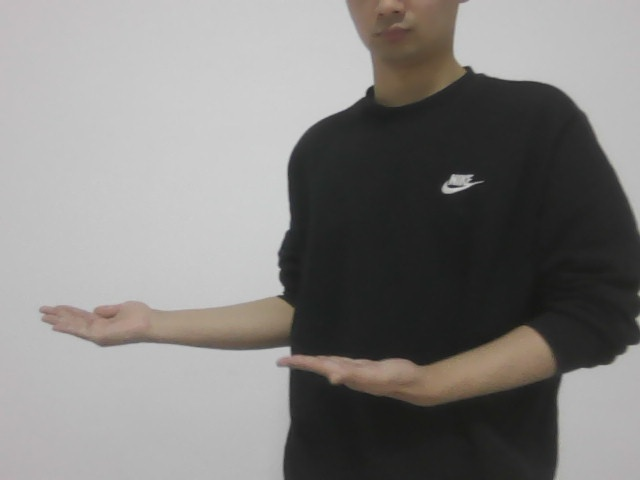please: (26, 273, 458, 430)
